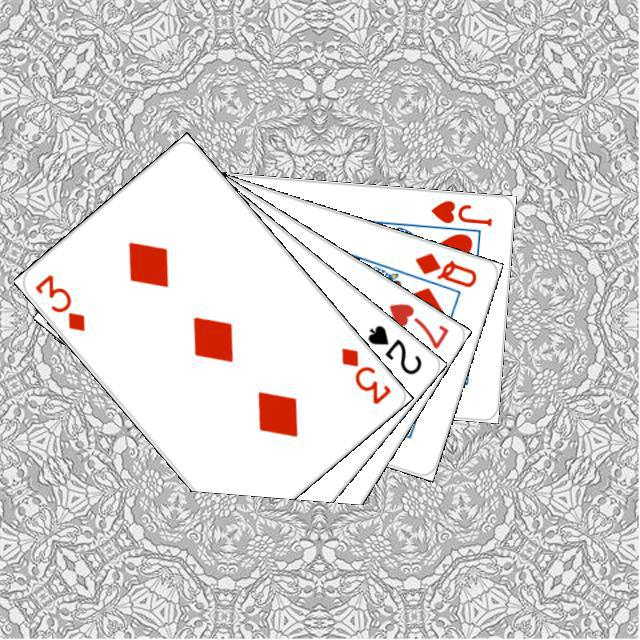2s: (362, 319, 424, 377)
3d: (29, 269, 87, 333), (336, 342, 393, 407)
7h: (384, 298, 451, 351)
Jh: (426, 195, 494, 228)
Qd: (410, 248, 479, 289)
